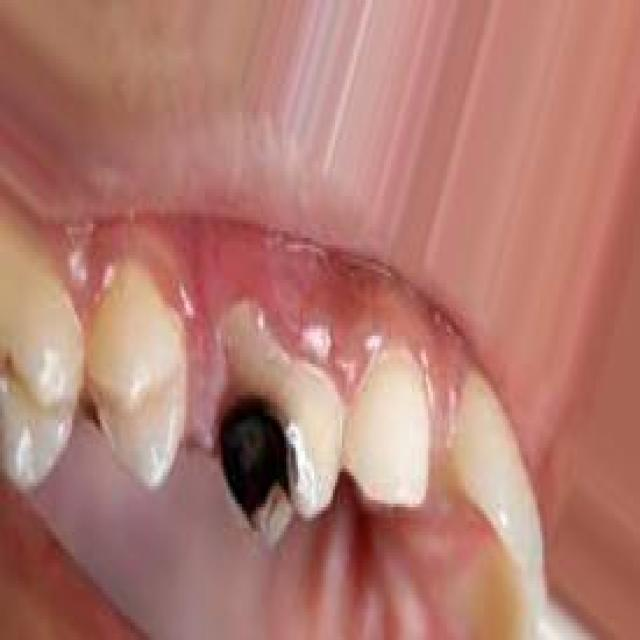caries: (203, 357, 314, 539)
